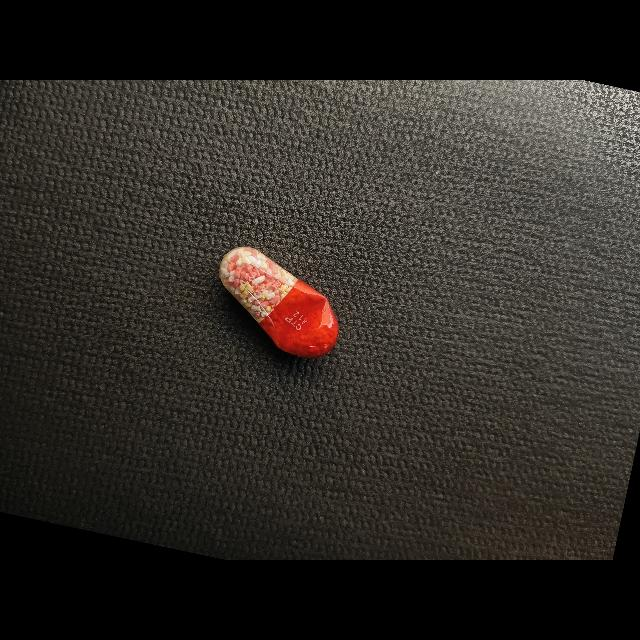Defective Capsule: (220, 246, 339, 358)
